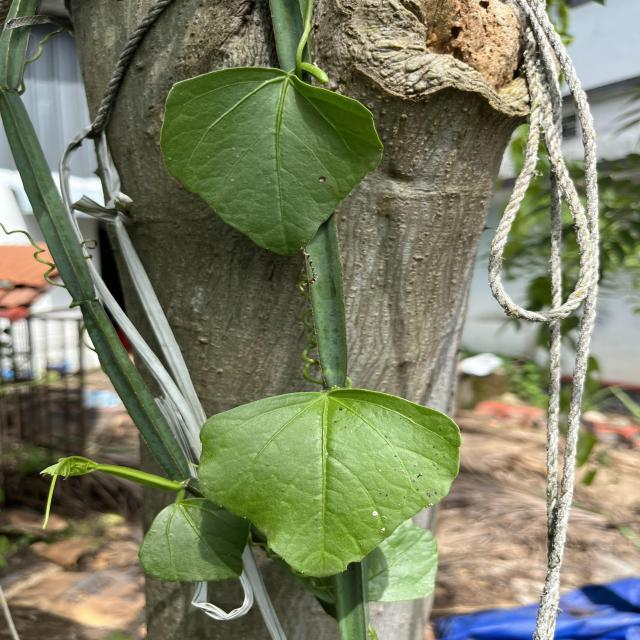Cissus quadrangularis: (192, 385, 464, 581), (156, 64, 388, 260), (138, 495, 252, 584)
